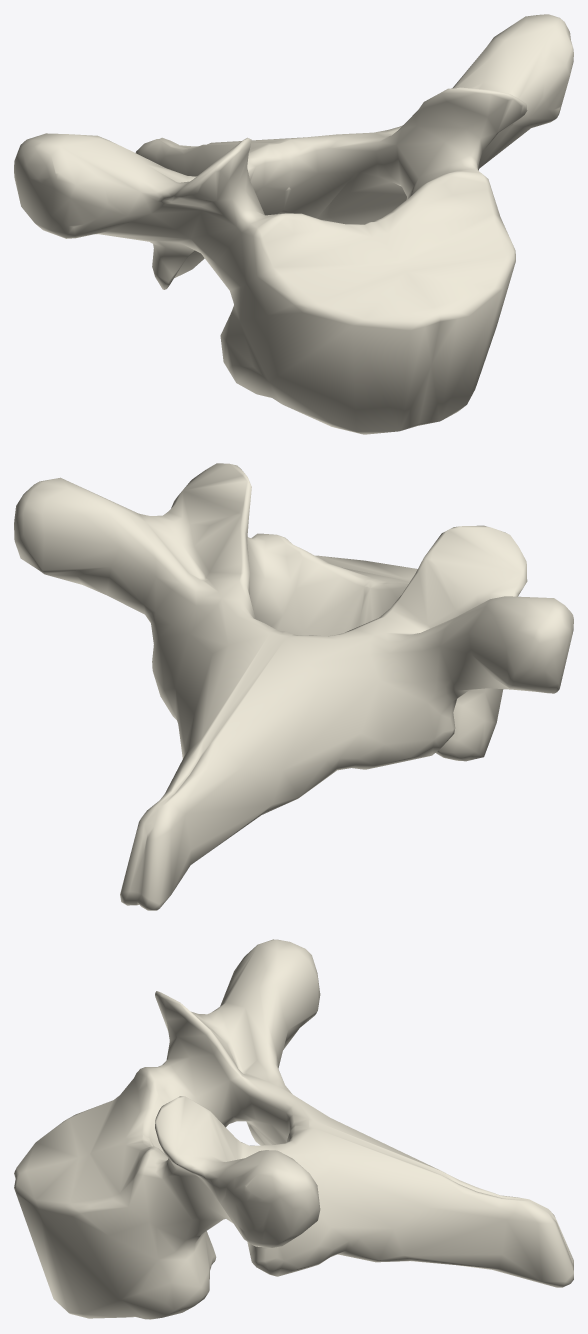
3 renders of one model, top to bottom at view 1: azimuth 30°, elevation 25°; view 2: azimuth 150°, elevation 25°; view 3: azimuth 270°, elevation 25°, orthographic. The views are drawn at different scales.
Parts seen in each view (by area): view 1: ZA_e3f0a4de64962f60; view 2: ZA_e3f0a4de64962f60; view 3: ZA_e3f0a4de64962f60.
Boxes of the visible parts, x1=… form: ZA_e3f0a4de64962f60: x1=14, y1=14, x2=573, y2=434; ZA_e3f0a4de64962f60: x1=14, y1=463, x2=573, y2=910; ZA_e3f0a4de64962f60: x1=14, y1=939, x2=573, y2=1319.
Size of the model in its own units: 0.0751 by 0.035 by 0.073.
